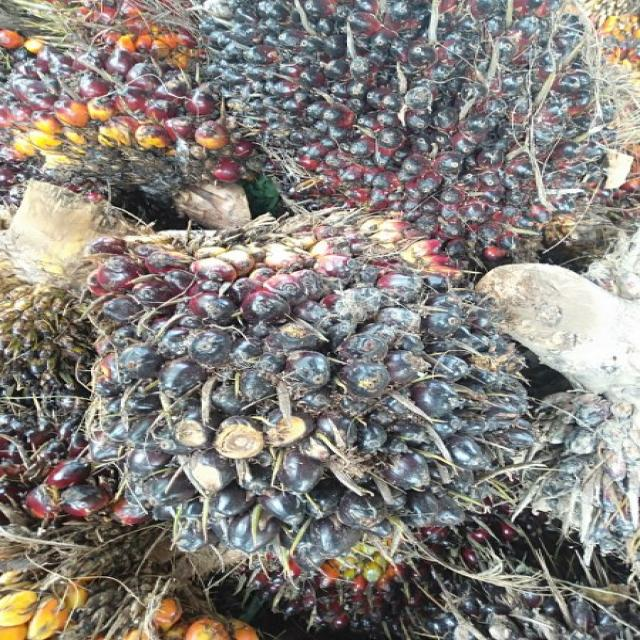fraksi 00: (90, 250, 540, 574)
